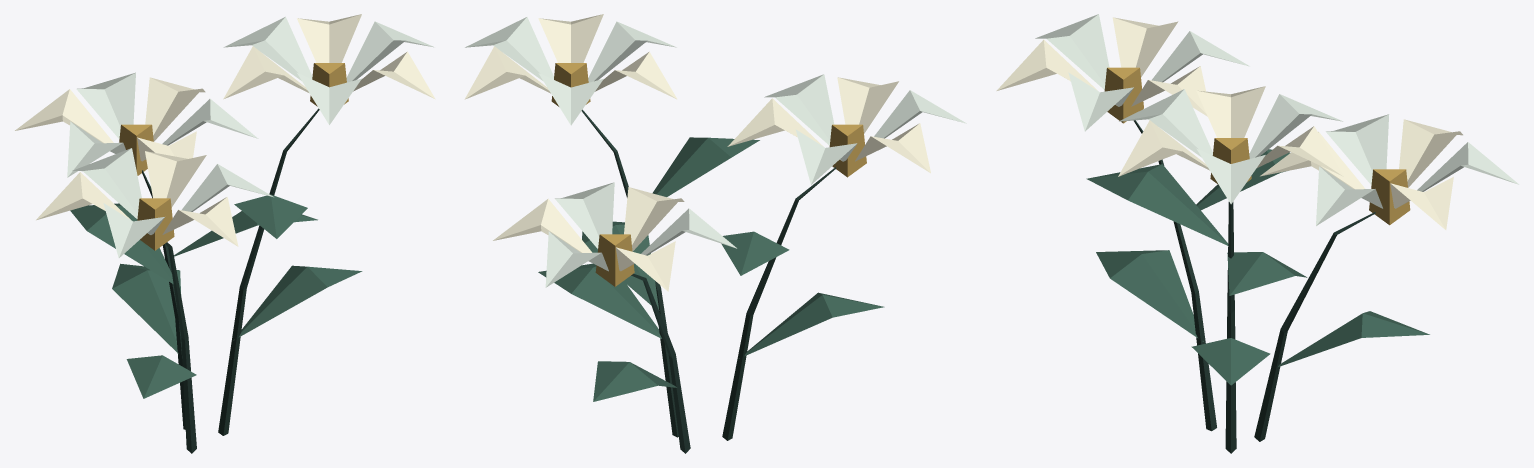
File: ALPINE_BLOOM.shadow.glb
3 renders of one model, left to right at view 1: azimuth 30°, elevation 25°; view 2: azimuth 150°, elevation 25°; view 3: azimuth 270°, elevation 25°, orthographic. The views are drawn at different scales.
Parts seen in each view (by area): view 1: ALPINE_BLOOM; view 2: ALPINE_BLOOM; view 3: ALPINE_BLOOM.
Part boxes in pixels (bbox=[...]): ALPINE_BLOOM: bbox=[15, 14, 435, 453]; ALPINE_BLOOM: bbox=[464, 14, 966, 453]; ALPINE_BLOOM: bbox=[996, 14, 1519, 453].
Size of the model in its own units: 0.334 by 0.2699 by 0.329.
1 material, 1 textured.
